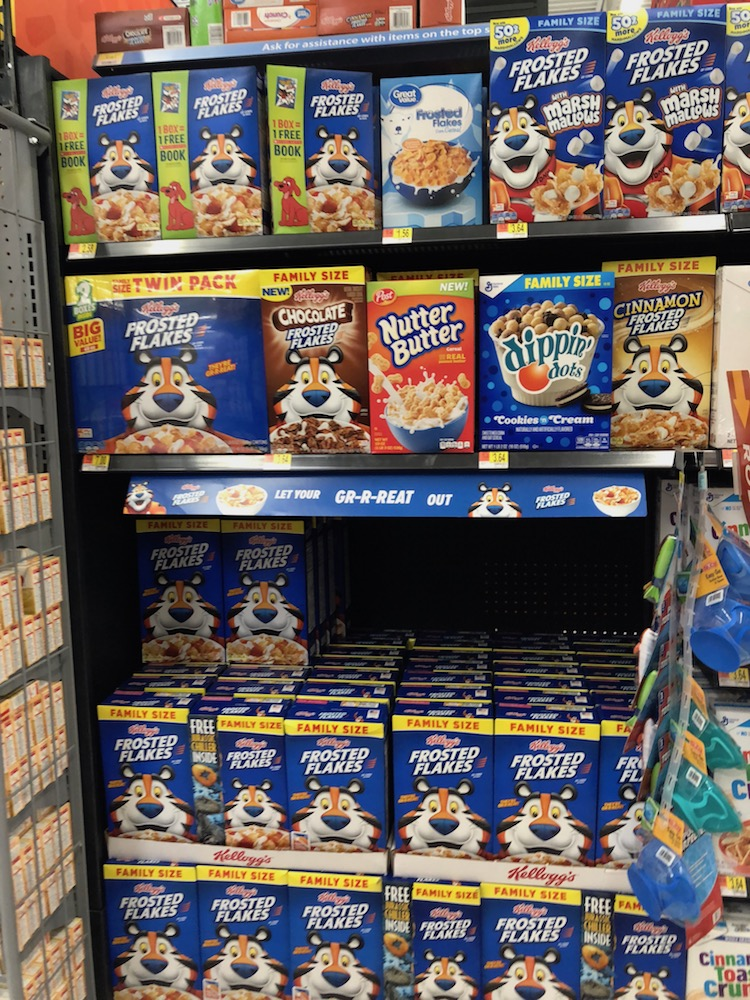Dippin Dots Cookies & Cream -568929378: (476, 286, 620, 449)
Nutter Butter-565717511: (359, 283, 503, 462)
